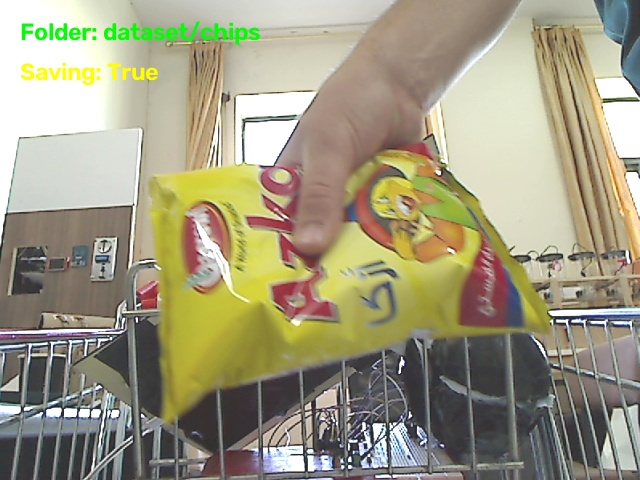chips: (151, 150, 548, 418)
